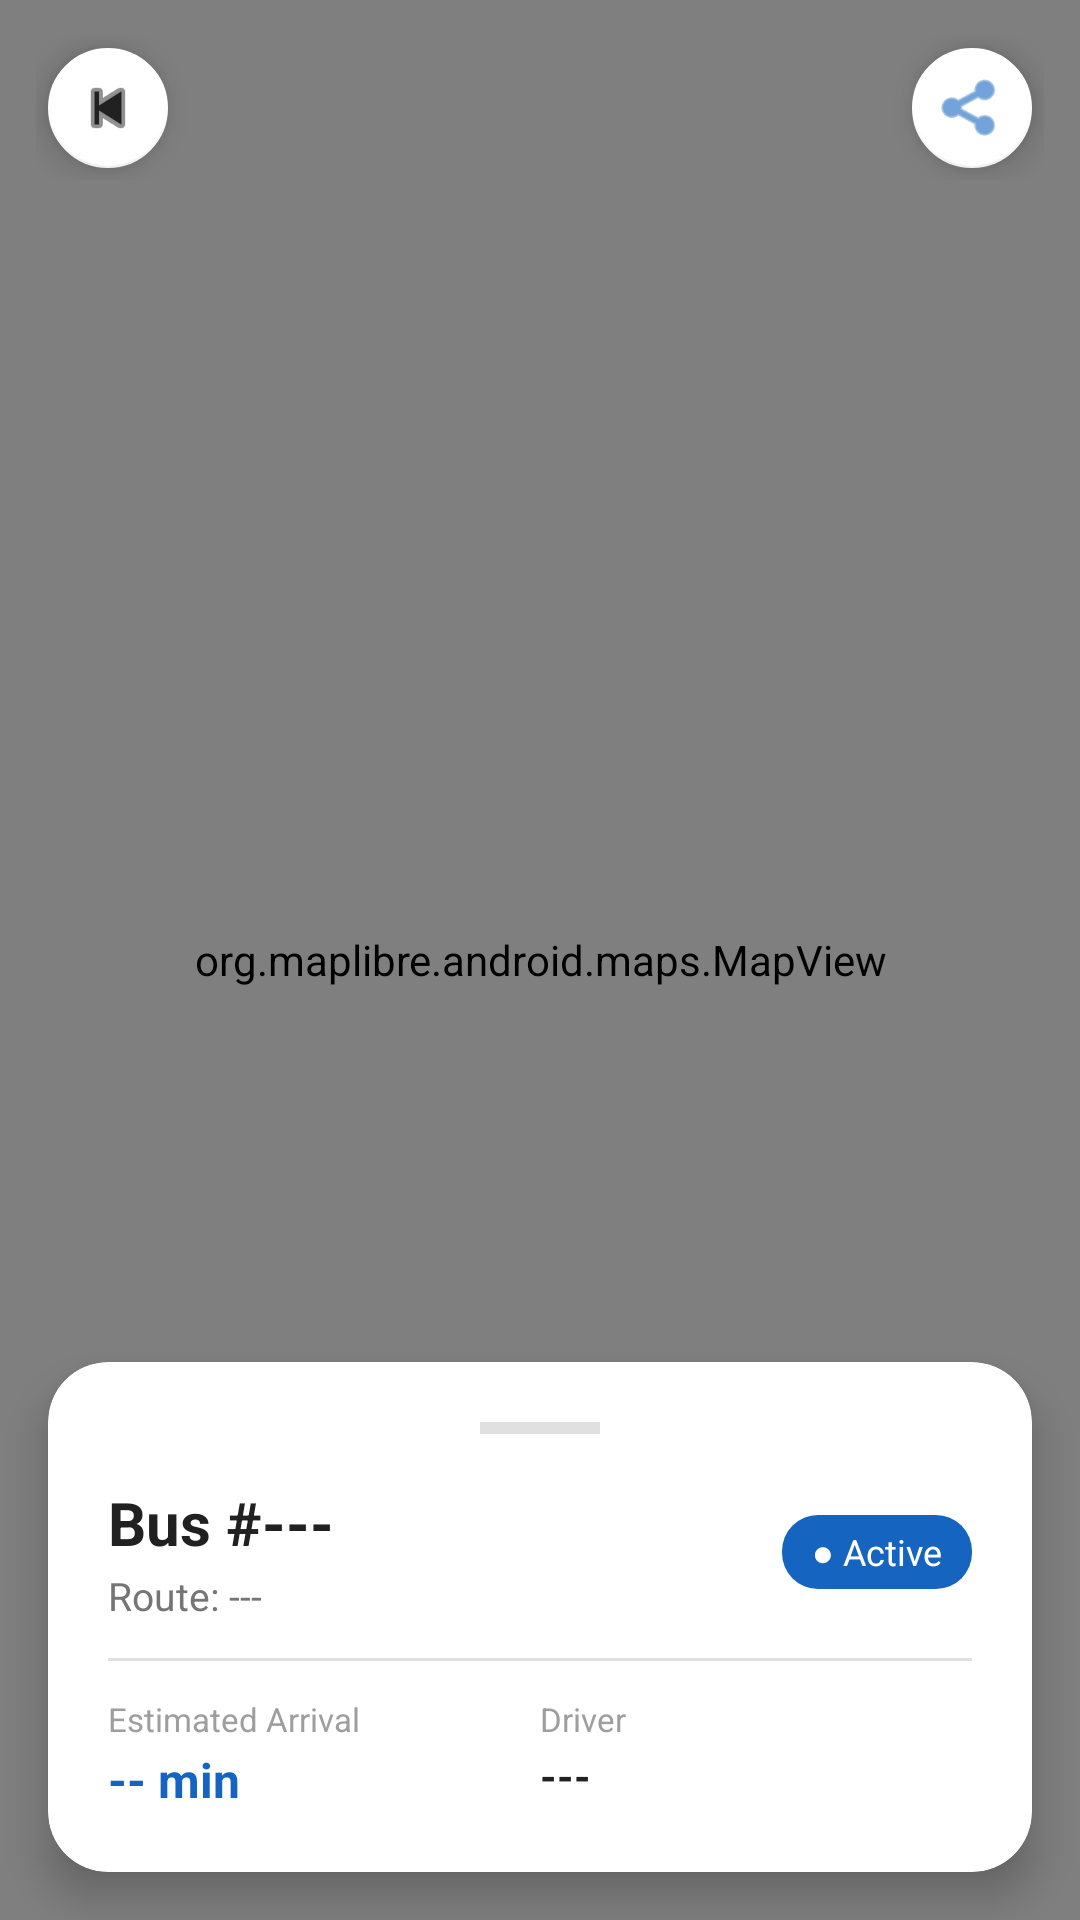

Where to tap for icons on this 1080 x 1920 app screen, as (x=x, y=y):
Back: (x=108, y=108)
Share Location: (x=972, y=108)
